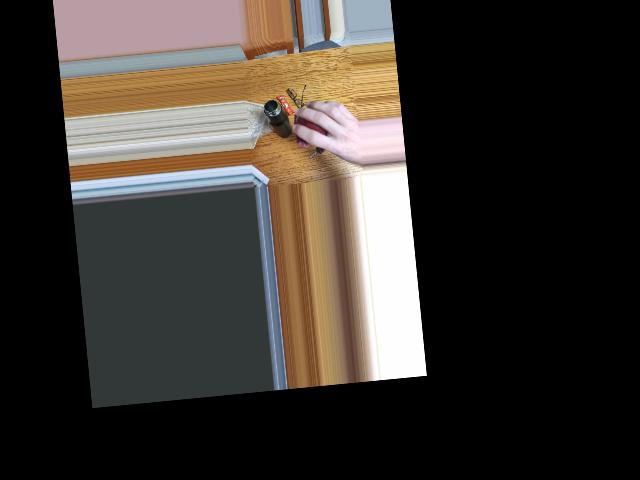onion: (299, 104, 335, 147)
